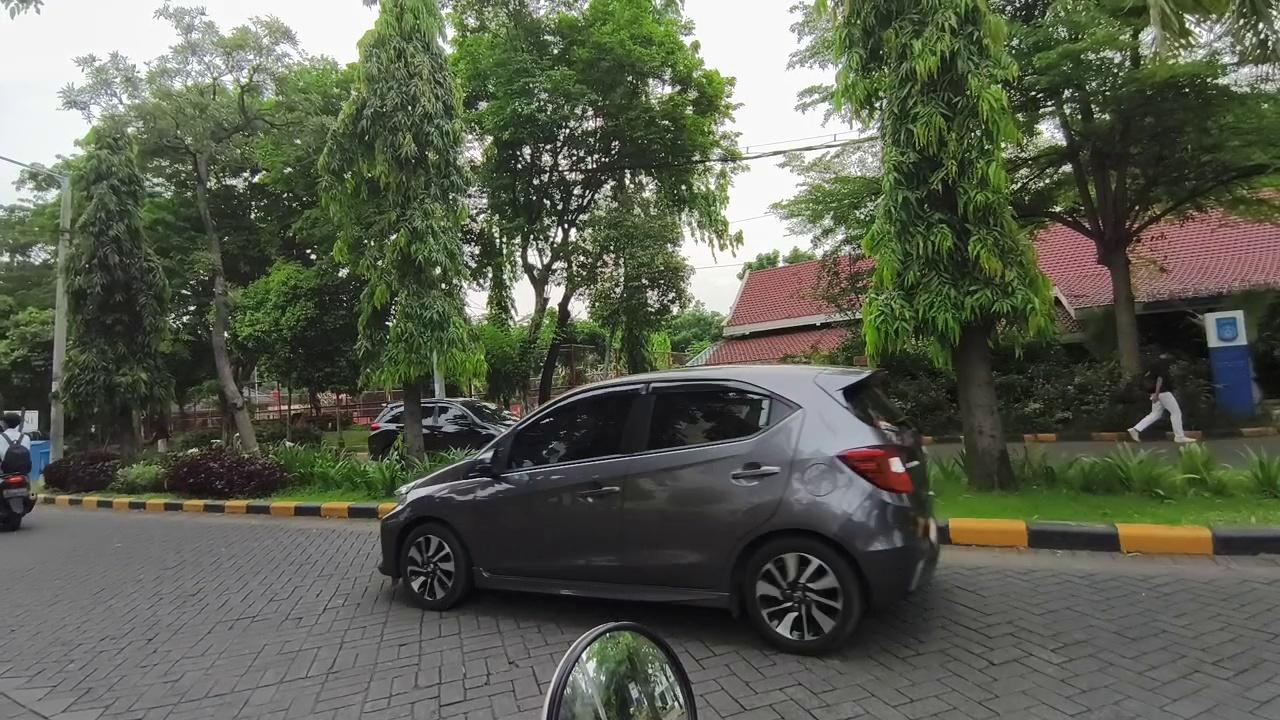Motor: (0, 473, 35, 531)
